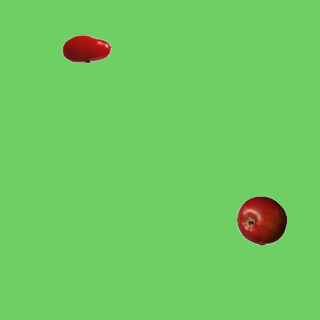Apple Braeburn: (236, 195, 286, 245)
Tomato 2: (61, 23, 111, 73)
